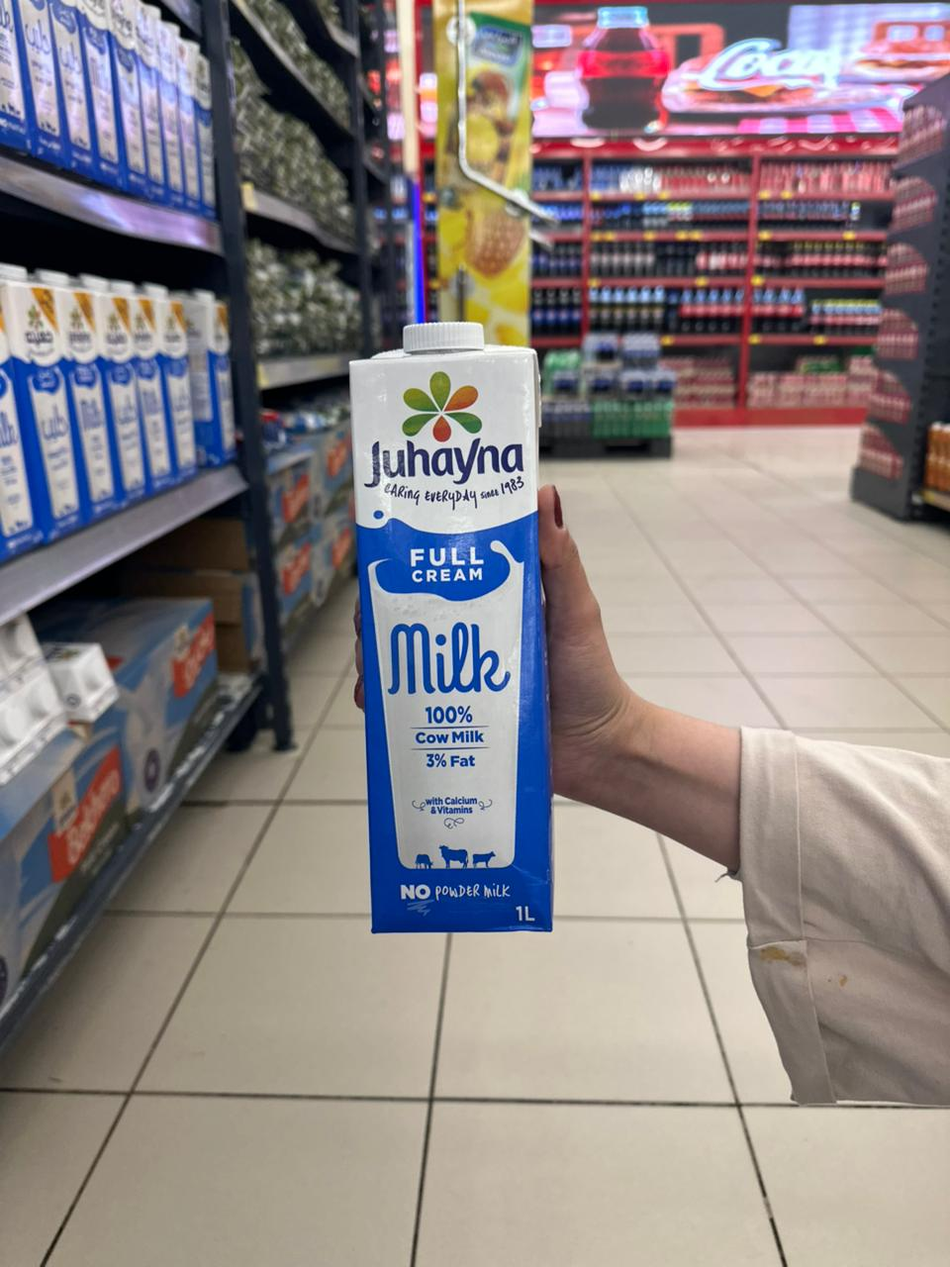milk: (351, 323, 550, 930)
